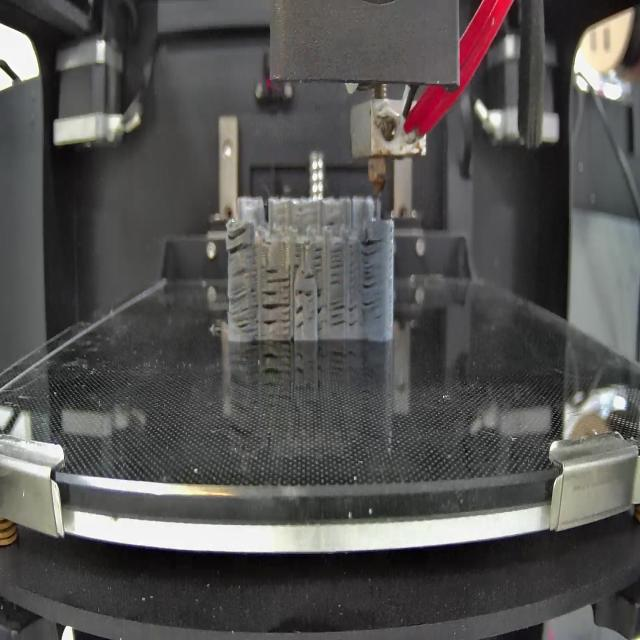cracks: (360, 238, 384, 320), (228, 290, 260, 334), (262, 290, 292, 332), (226, 228, 252, 256), (328, 298, 346, 332), (328, 249, 344, 286), (264, 268, 291, 284), (294, 287, 324, 298), (231, 268, 258, 280), (294, 305, 305, 334), (348, 245, 356, 284), (317, 305, 327, 332), (292, 246, 302, 271), (348, 306, 358, 328), (314, 248, 322, 273), (323, 220, 339, 228)
